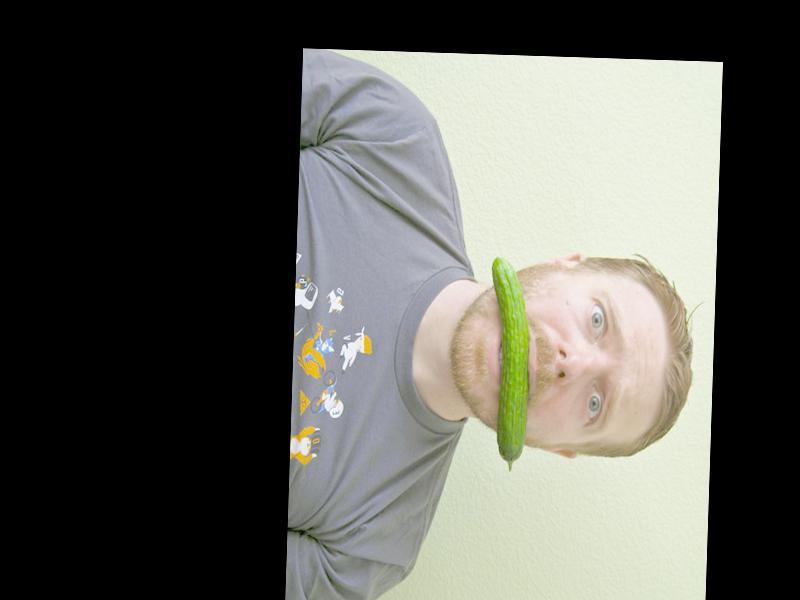Cucumber: (484, 254, 532, 472)
